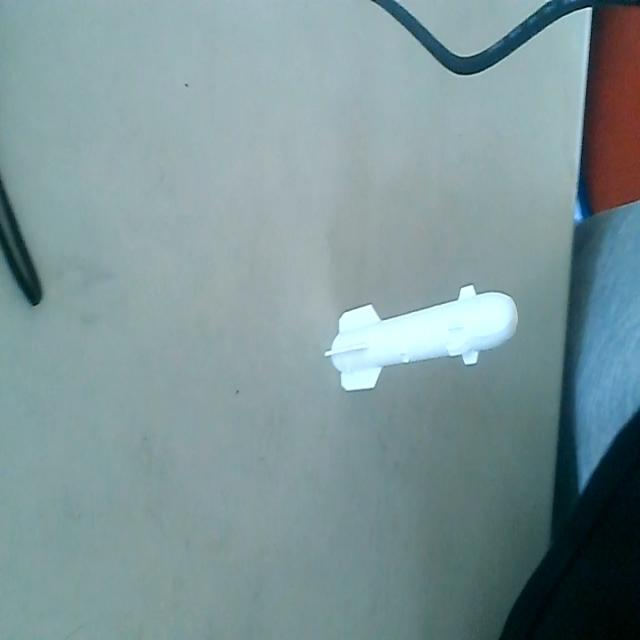Rocket: (322, 278, 521, 401)
